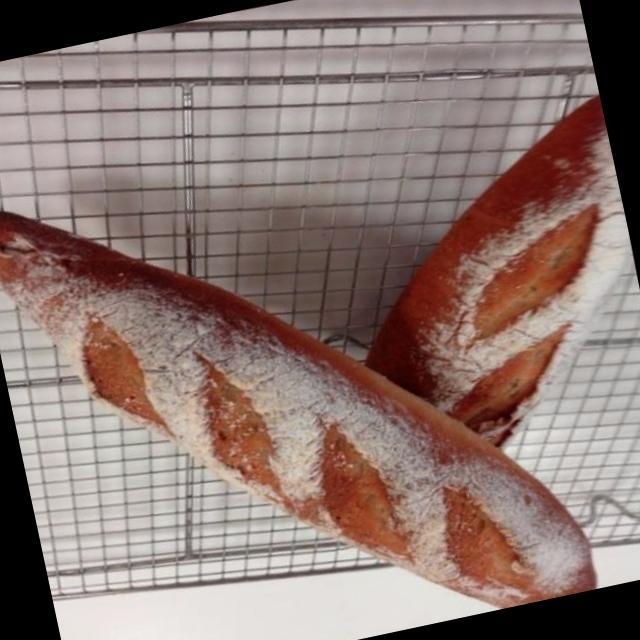Bread: (0, 81, 640, 640)
